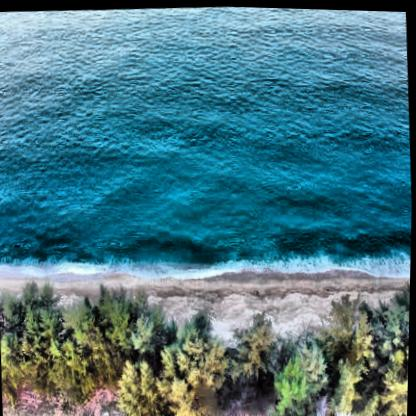tree-top: (5, 284, 67, 354), (175, 315, 229, 387), (327, 294, 370, 365), (367, 286, 411, 345), (155, 349, 193, 416), (51, 344, 93, 404), (240, 313, 278, 376), (121, 365, 161, 416), (275, 365, 313, 416), (99, 280, 133, 334), (385, 345, 410, 416), (329, 355, 364, 404), (69, 306, 105, 350), (300, 332, 329, 385), (131, 293, 159, 344), (0, 334, 26, 382)
